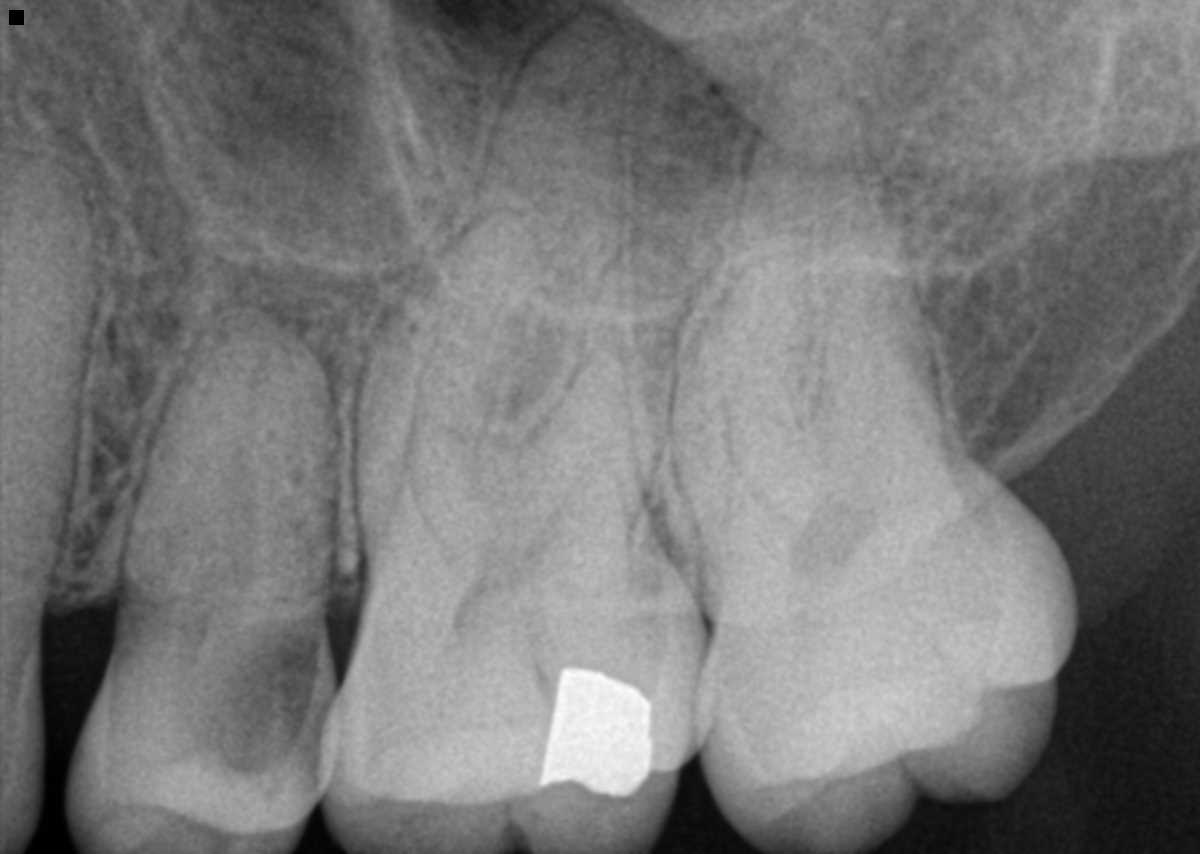Apical Lesion: (198, 201, 374, 392)
Distal Canal: (521, 448, 597, 567)
Distal Root: (513, 230, 715, 621), (816, 179, 954, 483)
Main Canal: (224, 340, 274, 596)
Main Root: (107, 307, 338, 631), (0, 154, 101, 573)
Mesial Root: (353, 205, 541, 621), (677, 250, 832, 598)
Palatal Root: (420, 8, 684, 596), (712, 39, 929, 568)
decay: (203, 628, 324, 766)
